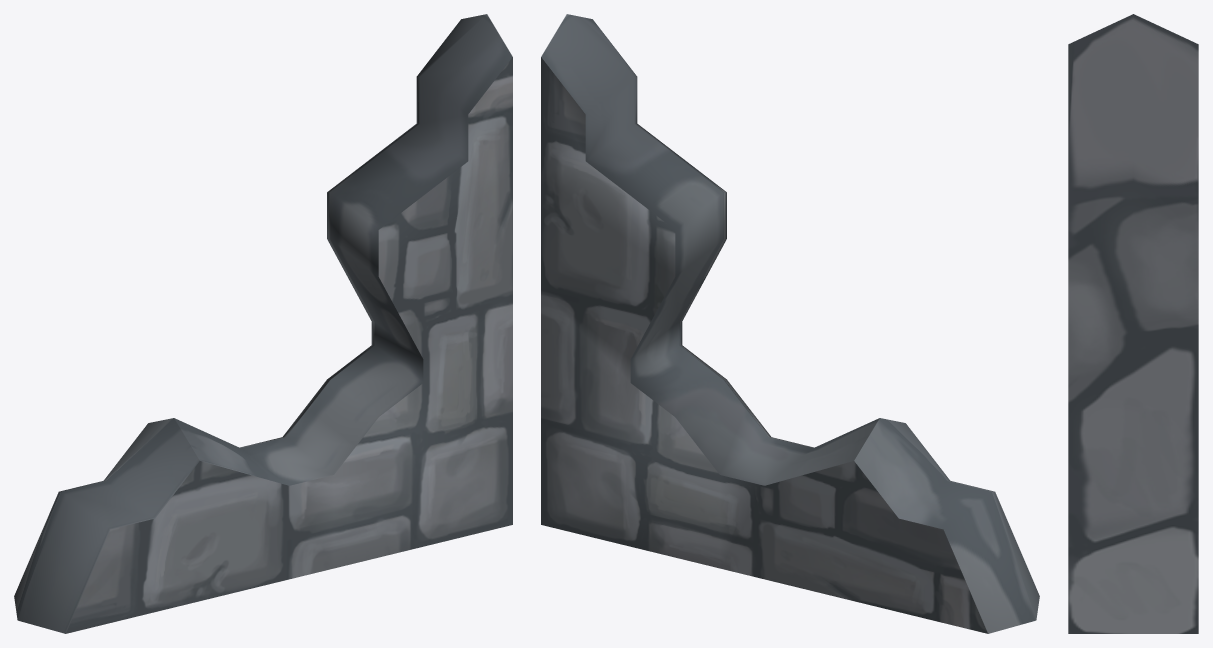
Rendered from WallBrokenCorner.001.fbx.
3 views of the same model, side by side, from view 1: azimuth 30°, elevation 25°; view 2: azimuth 150°, elevation 25°; view 3: azimuth 270°, elevation 25° (orthographic). The views are drawn at different scales.
Parts seen in each view (by area): view 1: WallBrokenCorner.001; view 2: WallBrokenCorner.001; view 3: WallBrokenCorner.001.
Boxes of the visible parts, box(x1,y1,x2,y2) form: WallBrokenCorner.001: box(14, 14, 512, 633); WallBrokenCorner.001: box(541, 14, 1039, 633); WallBrokenCorner.001: box(1068, 14, 1198, 633).
Size of the model in its own units: 262 by 263 by 50.
